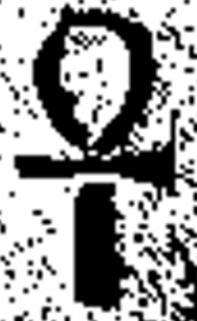Ankh: (9, 7, 181, 317)
